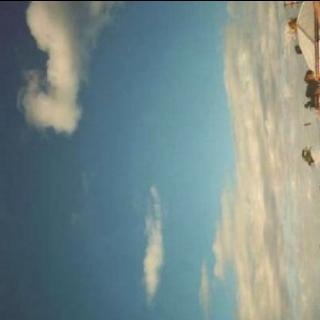Stratocumulus: (0, 0, 294, 320)
